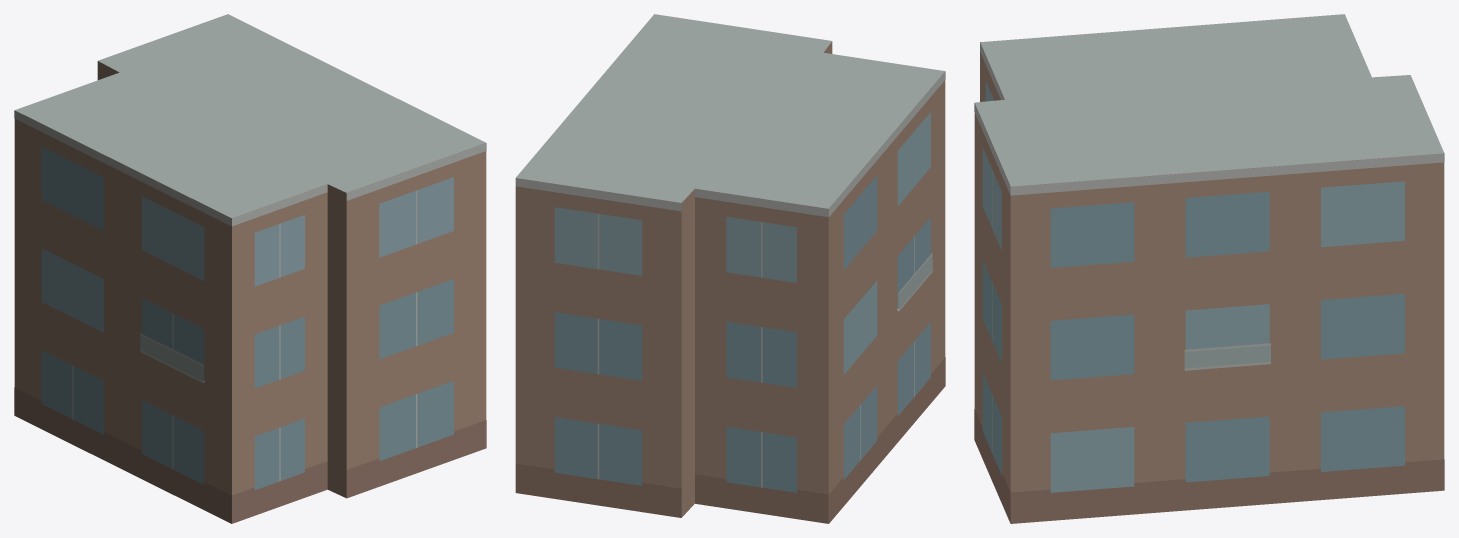
Rendered from survey-upis-32717483.glb.
The picture shows the model from 3 angles, left to right: view 1: azimuth 30°, elevation 25°; view 2: azimuth 150°, elevation 25°; view 3: azimuth 270°, elevation 25°; orthographic projection. The views are drawn at different scales.
Visible parts, largest first — view 1: survey-upis-32717483.tmp; view 2: survey-upis-32717483.tmp; view 3: survey-upis-32717483.tmp.
Boxes of the visible parts, bbox=[...] form: survey-upis-32717483.tmp: bbox=[14, 14, 486, 523]; survey-upis-32717483.tmp: bbox=[515, 14, 945, 523]; survey-upis-32717483.tmp: bbox=[974, 14, 1444, 523].
Size of the model in its own units: 10.06 by 9.15 by 11.57.
